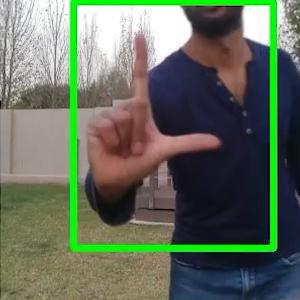land_hand: (79, 28, 221, 189)
